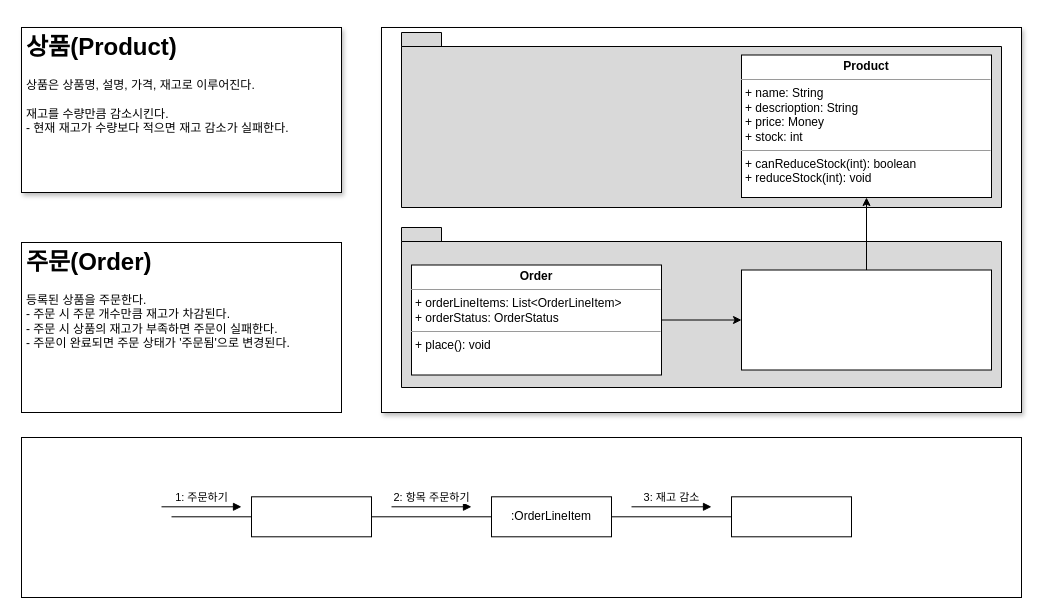
Image size: 1045x615. Some labels were removed from this diagram. The shapes that lost their labels are listed below. From the top down, each one's centre as x and y in pixels, then its label:
At point 866,319: "OrderLineItem + product: Product + quantity: int + placeOrder(): void".
At point 311,516: ":Order".
At point 791,516: ":Product".
